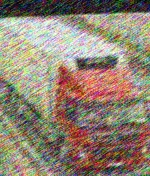truck: (0, 14, 150, 172)
